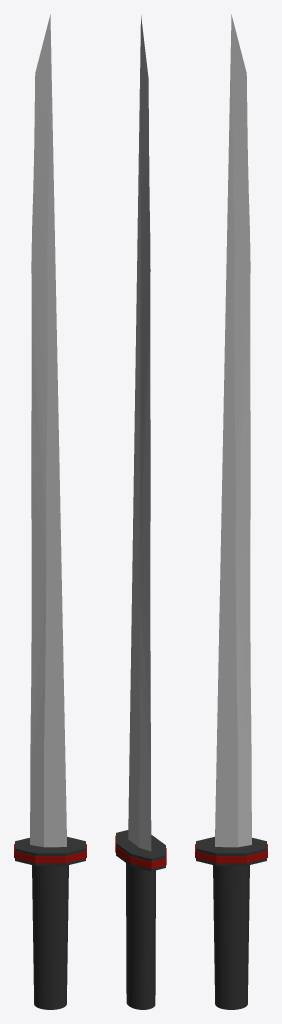
Rendered from katana.fbx.
3 views of the same model, side by side, from view 1: azimuth 90°, elevation 25°; view 2: azimuth 210°, elevation 25°; view 3: azimuth 270°, elevation 25° (orthographic).
Visible parts, largest first — view 1: Cone, Cylinder, Cylinder.001, Cylinder.002; view 2: Cone, Cylinder, Cylinder.001, Cylinder.002; view 3: Cone, Cylinder, Cylinder.001, Cylinder.002.
Part boxes in pixels (x1,y1,x2,y2): Cone: (30, 14, 66, 847); Cylinder: (32, 865, 68, 1009); Cylinder.001: (15, 836, 85, 865); Cylinder.002: (14, 844, 86, 863); Cone: (128, 15, 151, 851); Cylinder: (126, 863, 155, 1009); Cylinder.001: (116, 830, 165, 871); Cylinder.002: (115, 835, 166, 868); Cone: (215, 14, 251, 847); Cylinder: (213, 865, 249, 1009); Cylinder.001: (196, 836, 266, 865); Cylinder.002: (195, 844, 267, 863).
Size of the model in its own units: 6.03 by 159 by 10.55.
